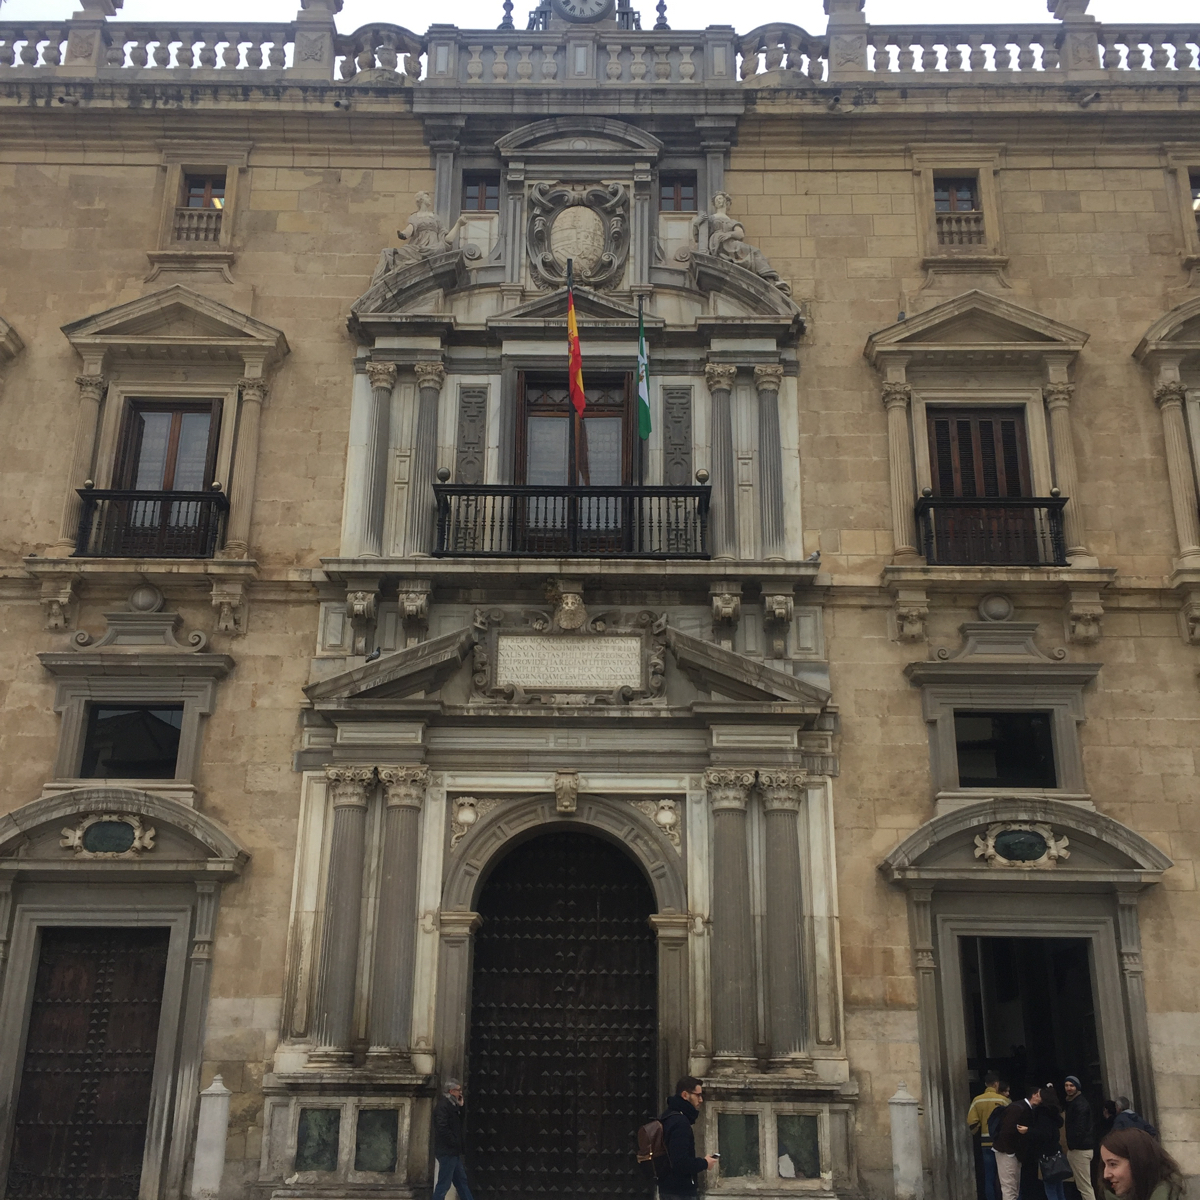arco-medio-punto: (453, 804, 674, 952)
fronton: (58, 279, 287, 357), (862, 284, 1090, 358), (484, 280, 648, 338)
fronton-curvo: (874, 798, 1173, 893), (2, 788, 257, 885), (492, 114, 667, 164)
fronton-partido: (278, 621, 848, 721), (349, 246, 801, 333)
vano-adintelado: (912, 892, 1144, 1195), (0, 887, 203, 1200), (878, 376, 1075, 571), (67, 371, 251, 554), (491, 343, 651, 549)
